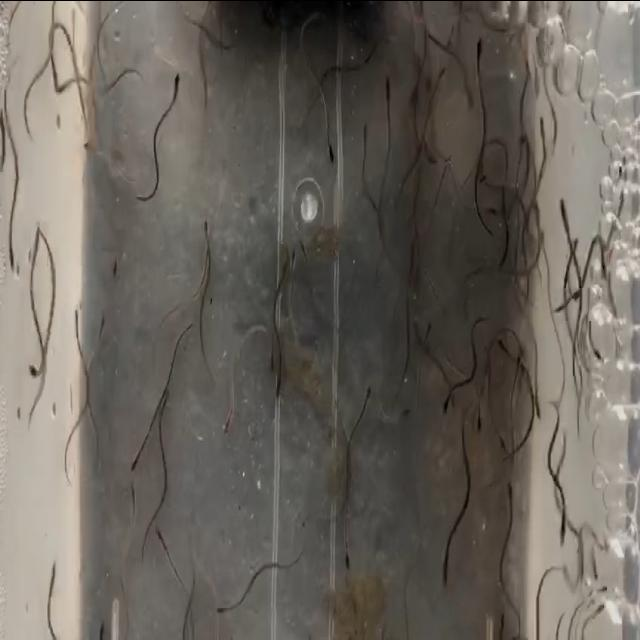active_glass_eel: (382, 69, 396, 111), (558, 496, 568, 554), (28, 354, 44, 388), (44, 562, 59, 598), (558, 190, 570, 234), (168, 72, 182, 108), (472, 30, 486, 66), (29, 226, 42, 262), (286, 247, 298, 285), (440, 542, 449, 590), (202, 218, 214, 252), (532, 389, 542, 429), (70, 306, 82, 339), (7, 228, 15, 276), (224, 399, 234, 437), (326, 128, 336, 166), (340, 548, 352, 578), (474, 400, 484, 436), (440, 389, 456, 410), (130, 481, 138, 521), (496, 606, 506, 638), (506, 476, 516, 508), (81, 138, 97, 157), (154, 525, 166, 550), (399, 400, 414, 420), (361, 384, 372, 411), (130, 448, 142, 472), (95, 316, 106, 342), (268, 347, 278, 375), (95, 618, 107, 640), (421, 320, 432, 344), (214, 600, 228, 618), (111, 253, 120, 280), (539, 114, 547, 138), (277, 368, 283, 399)
